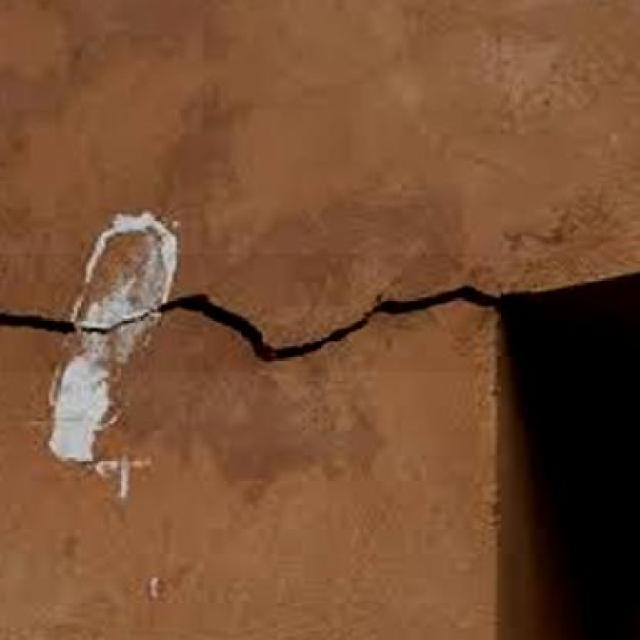Crack: (11, 269, 490, 370)
